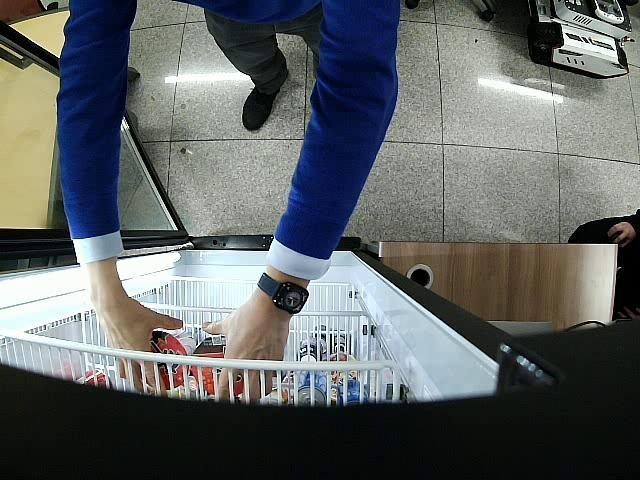02_shinRamen_S: (190, 333, 242, 396), (146, 331, 197, 389)
